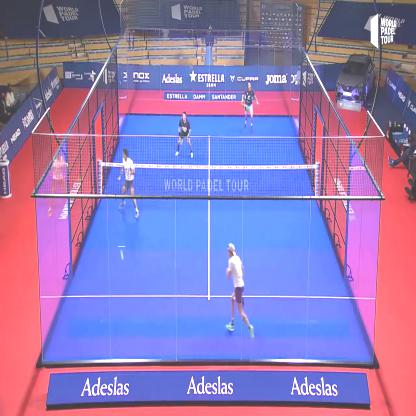ball: (118, 246, 126, 263)
